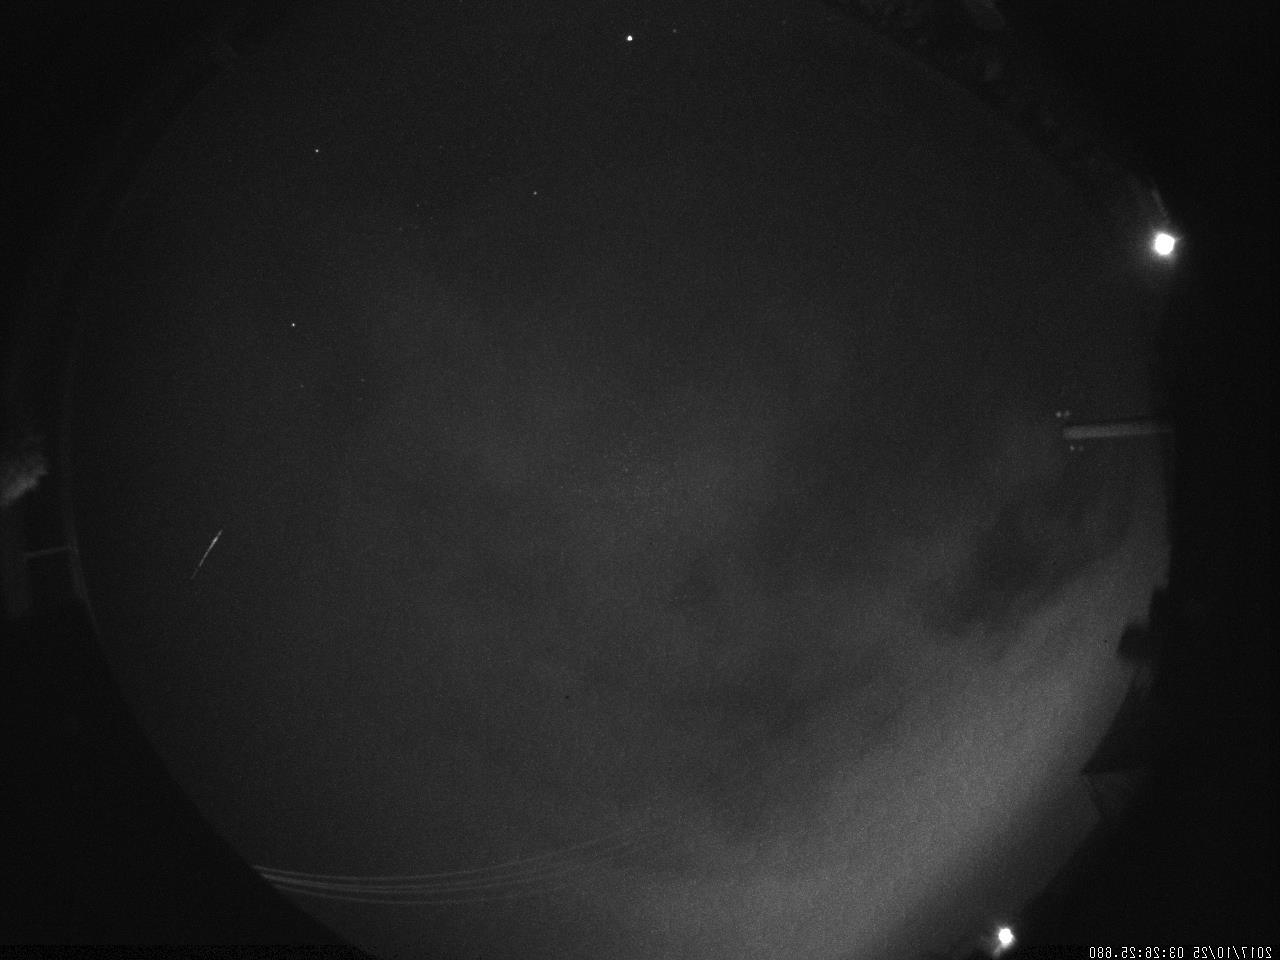meteor: (160, 520, 227, 576)
